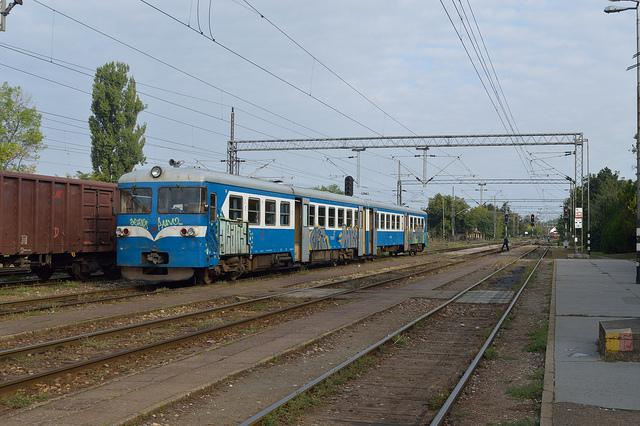Train: (117, 164, 433, 289), (0, 165, 120, 288)
